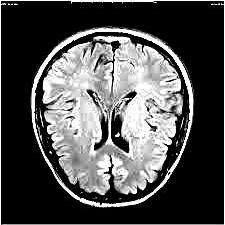Normal_Brain: (12, 6, 225, 225)
